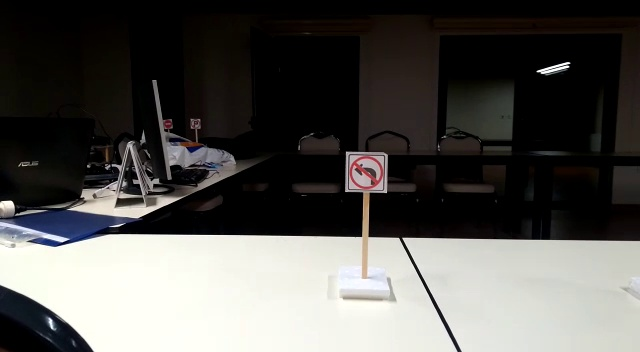sola_donulmez: (345, 153, 386, 190)
